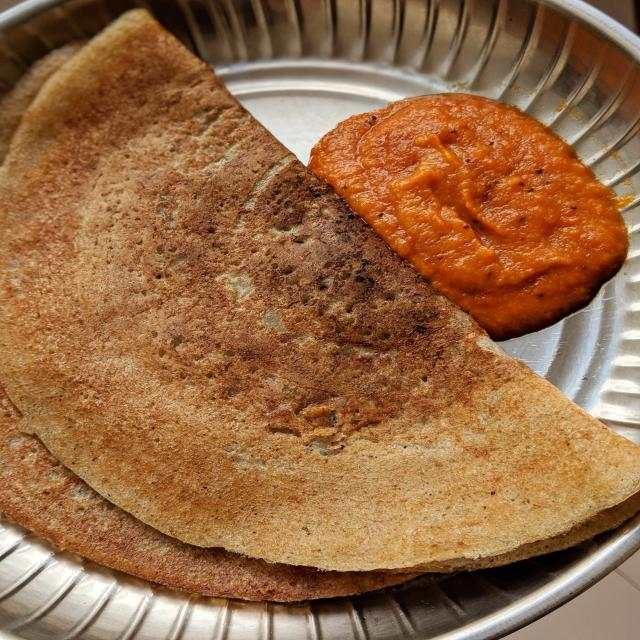dosa: (0, 13, 640, 571), (0, 384, 419, 602)
kaara chutney: (280, 70, 640, 322)
